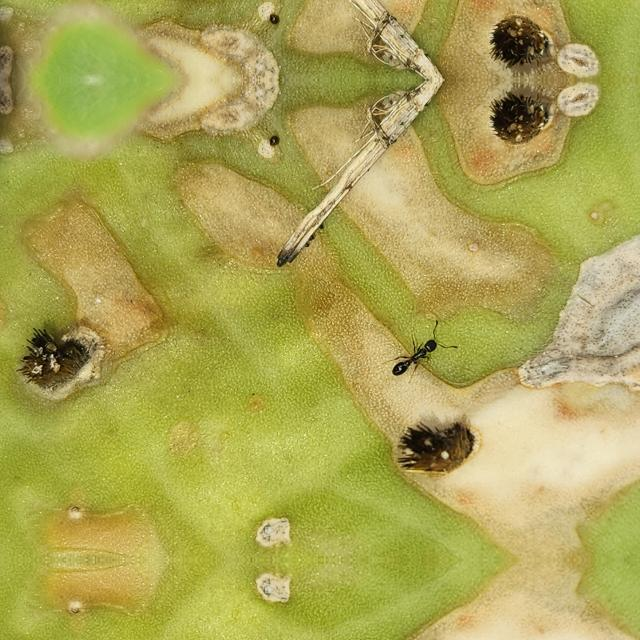Temnothorax: (381, 325, 453, 381)
